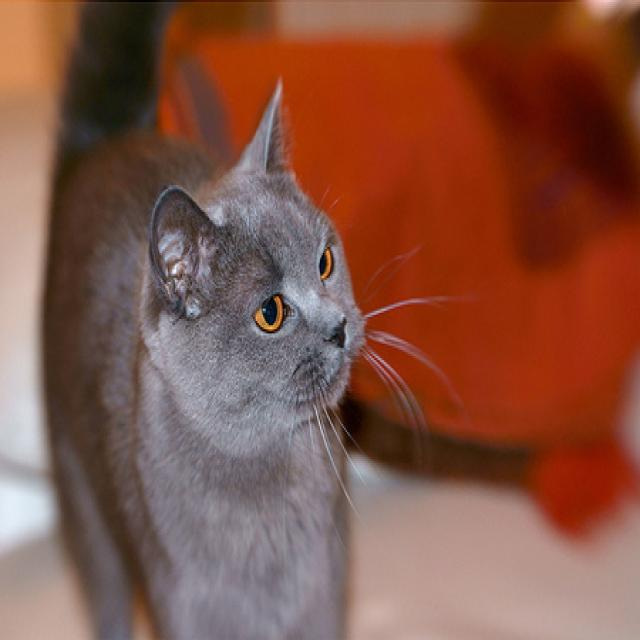British Shorthair: (37, 76, 370, 640)
